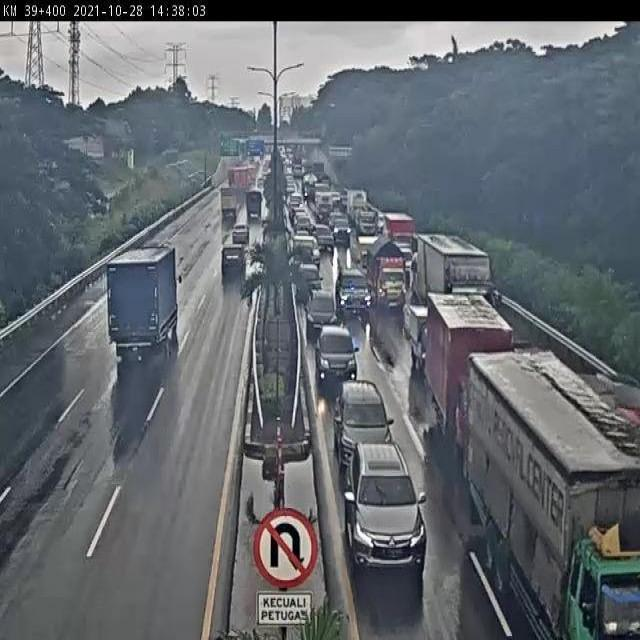car: (336, 436, 433, 584), (326, 373, 397, 472), (309, 320, 360, 392), (402, 297, 437, 380), (331, 267, 376, 325), (302, 287, 342, 339), (217, 255, 246, 297), (228, 220, 253, 255)
truck: (461, 340, 640, 640), (421, 292, 522, 456), (97, 236, 181, 372), (409, 225, 508, 319), (370, 238, 411, 322), (214, 180, 242, 228), (241, 188, 267, 231)
